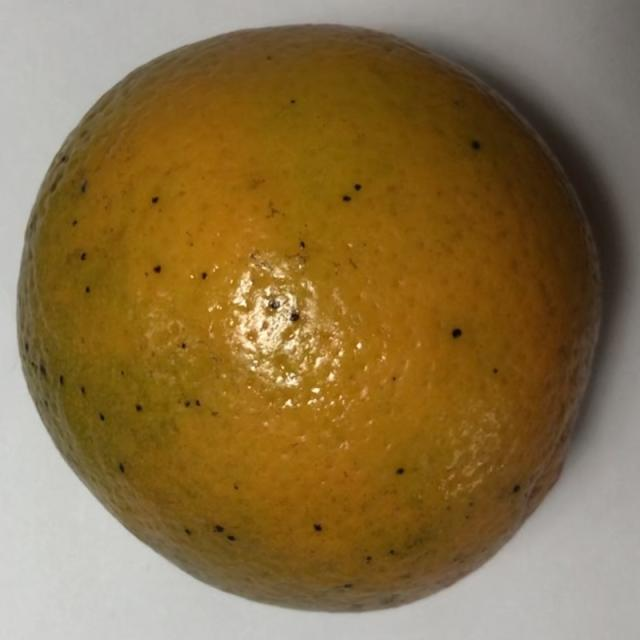black spot: (9, 18, 610, 622)
